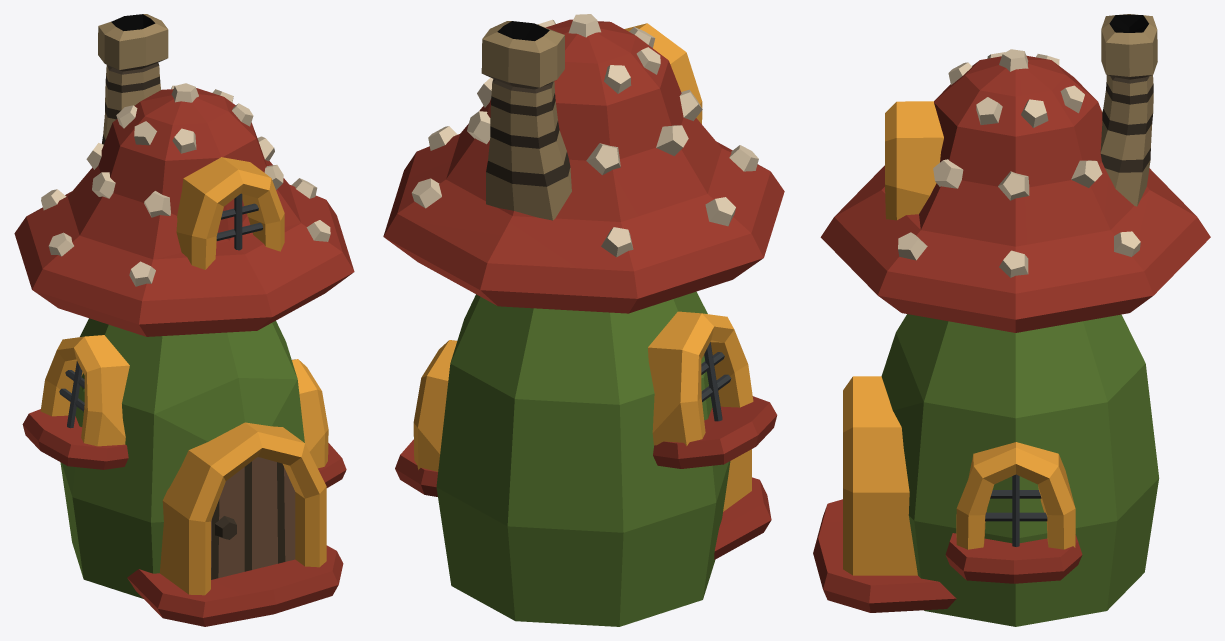
Rendered from meadow_SM_Prop_MushroomHouse_01.gltf.
The picture shows the model from 3 angles, left to right: view 1: azimuth 30°, elevation 25°; view 2: azimuth 150°, elevation 25°; view 3: azimuth 270°, elevation 25°; orthographic projection. The views are drawn at different scales.
Visible parts, largest first — view 1: SM_Prop_MushroomHouse_01; view 2: SM_Prop_MushroomHouse_01; view 3: SM_Prop_MushroomHouse_01.
Part boxes in pixels (x1,y1,x2,y2): SM_Prop_MushroomHouse_01: [14, 14, 354, 626]; SM_Prop_MushroomHouse_01: [383, 14, 784, 626]; SM_Prop_MushroomHouse_01: [813, 14, 1210, 626].
Size of the model in its own units: 0.3824 by 0.593 by 0.3898.
Materials: 1 (1 with a texture image).
